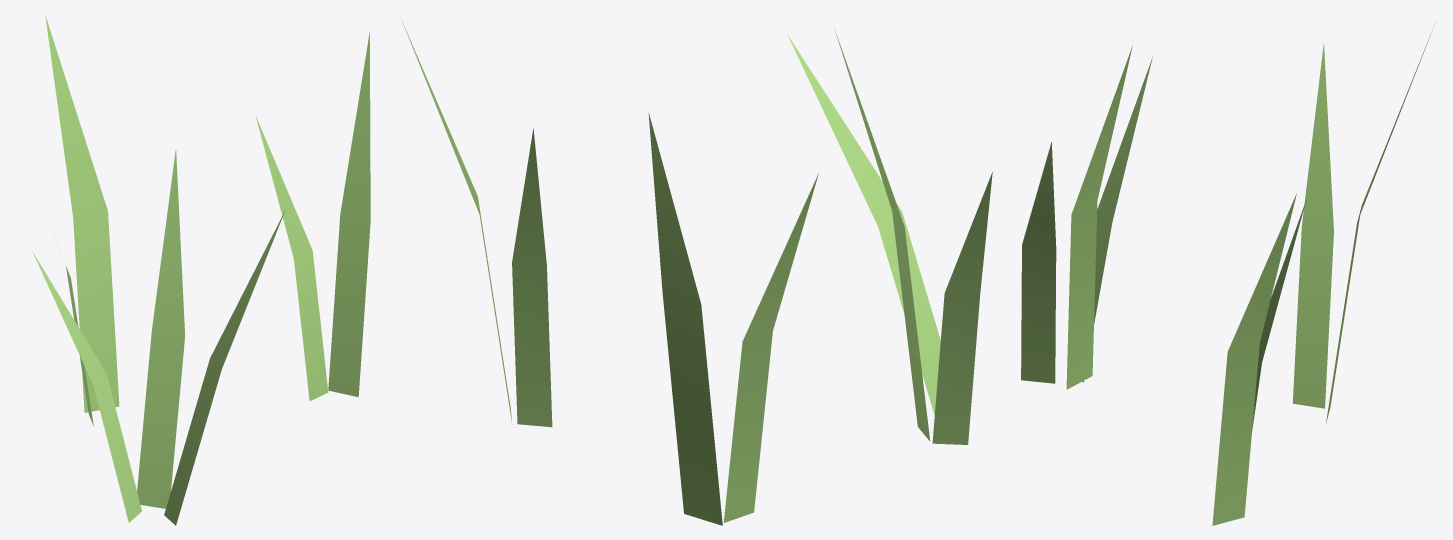
The model's file is Grass_b_OneS_06.fbx.
3 renders of one model, left to right at view 1: azimuth 30°, elevation 25°; view 2: azimuth 150°, elevation 25°; view 3: azimuth 270°, elevation 25°, orthographic. The views are drawn at different scales.
Visible parts, largest first — view 1: Grass_b_OneS_06; view 2: Grass_b_OneS_06; view 3: Grass_b_OneS_06.
Boxes of the visible parts, x1,y1,x2,y2 form: Grass_b_OneS_06: [33, 15, 370, 525]; Grass_b_OneS_06: [400, 17, 992, 525]; Grass_b_OneS_06: [1021, 25, 1434, 525].
Bounding box in the file's own units: 54.75 × 47.46 × 44.44.
